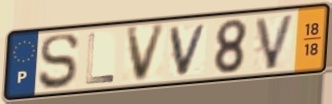8: (213, 17, 249, 76)
L: (84, 31, 116, 86)
S: (37, 31, 81, 92)
V: (124, 22, 169, 86), (253, 12, 298, 73), (168, 21, 211, 78)
